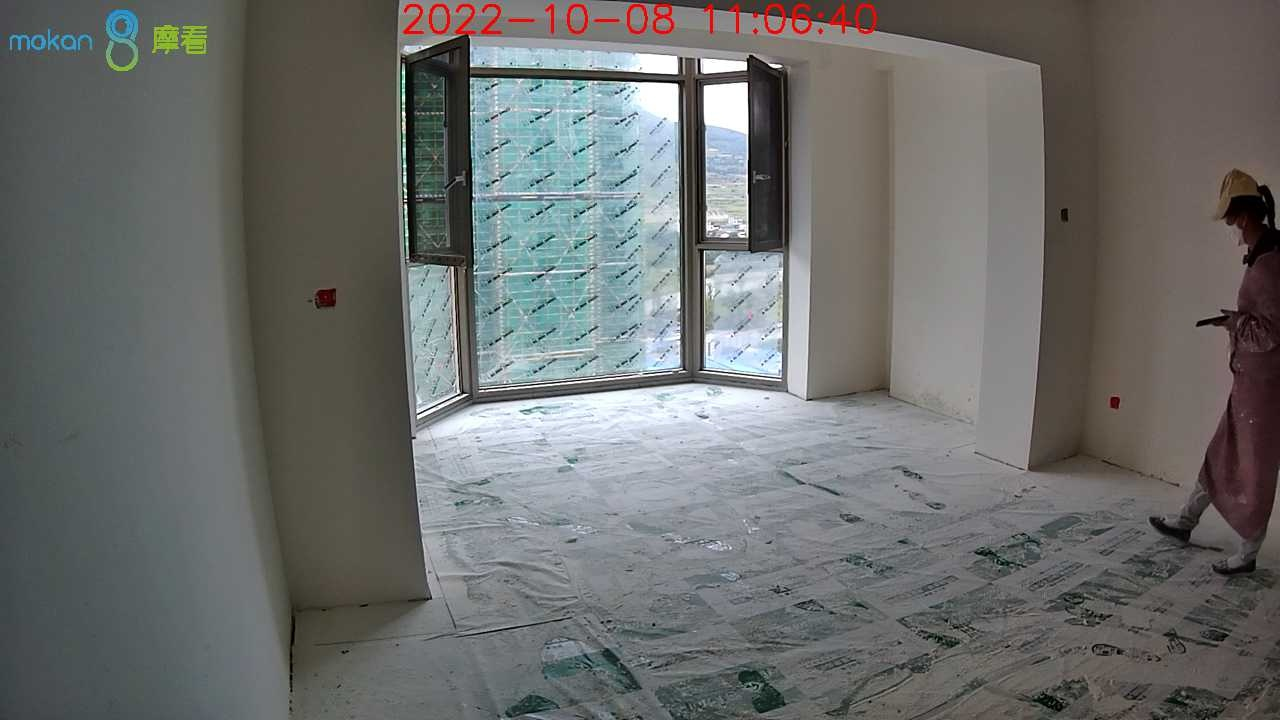people: (1148, 170, 1277, 578)
window: (402, 42, 794, 411)
